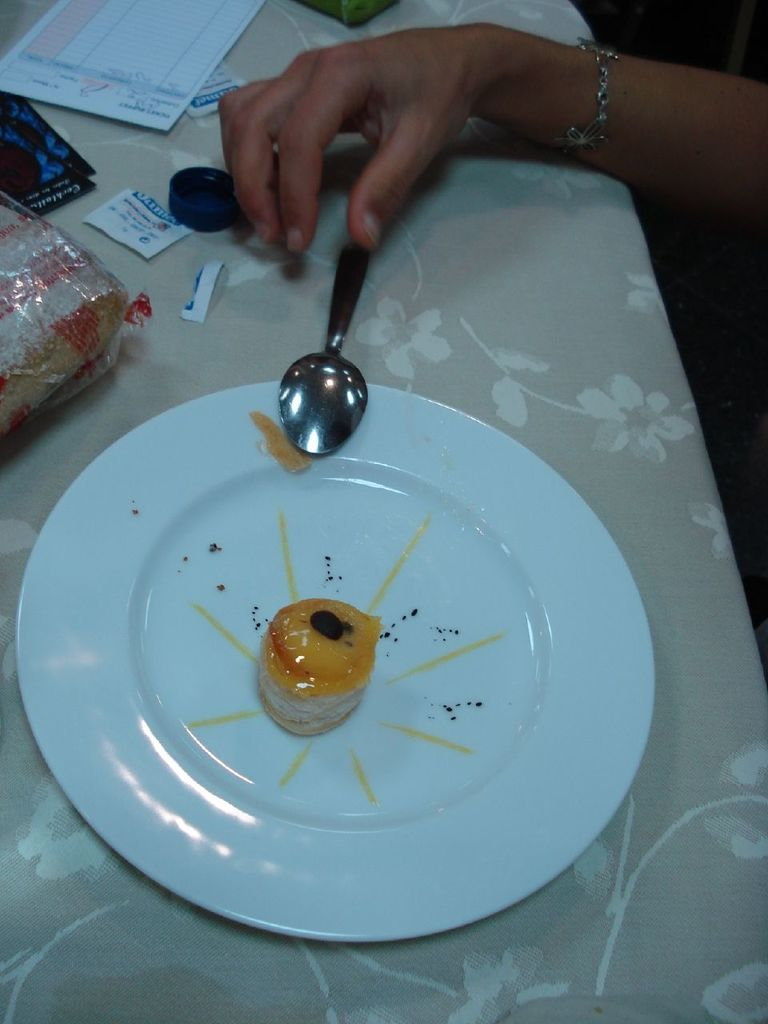plate: (68, 284, 679, 900)
